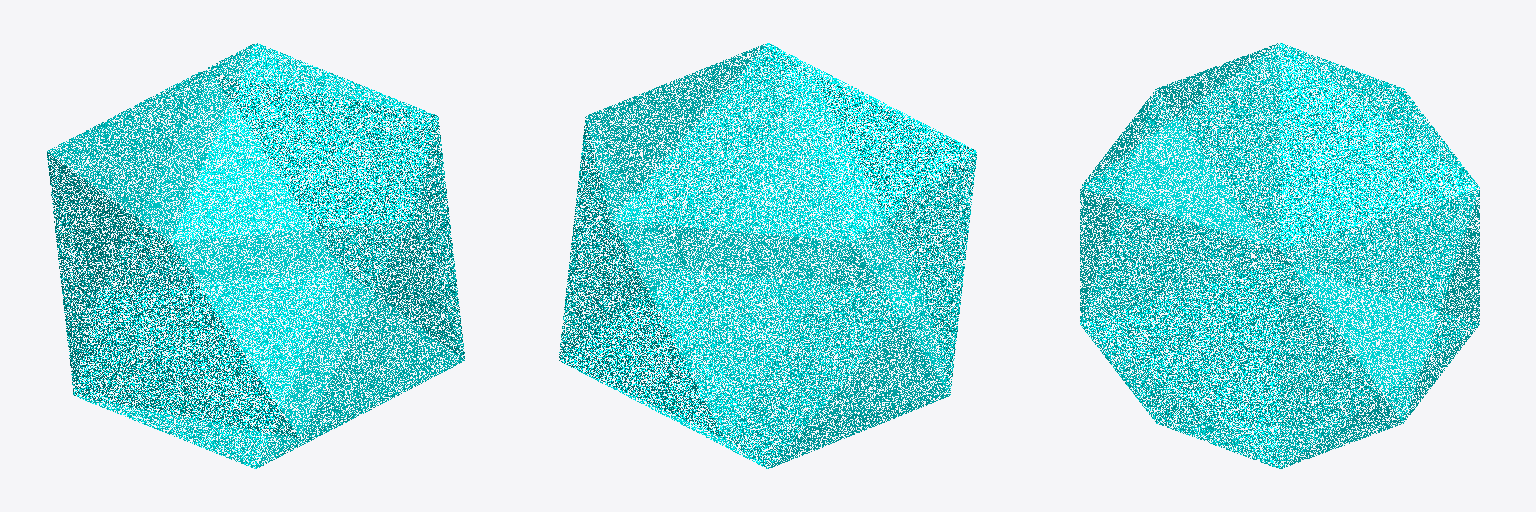
3 renders of one model, left to right at view 1: azimuth 30°, elevation 25°; view 2: azimuth 150°, elevation 25°; view 3: azimuth 270°, elevation 25°, orthographic.
Parts seen in each view (by area): view 1: Icosphere.003; view 2: Icosphere.003; view 3: Icosphere.003.
Part boxes in pixels (x1,y1,x2,y2): Icosphere.003: (47,43,464,468); Icosphere.003: (559,43,976,468); Icosphere.003: (1080,43,1479,468).
Size of the model in its own units: 0.1789 by 0.2 by 0.1701.
Materials: 1 (1 with a texture image).